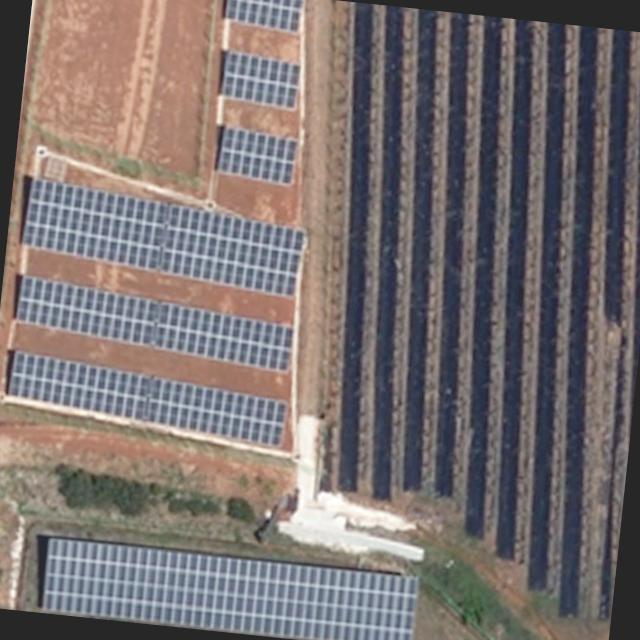solar: (36, 533, 420, 640), (18, 172, 309, 298), (8, 272, 300, 375), (1, 348, 290, 452), (213, 122, 301, 188), (215, 48, 302, 112), (223, 0, 305, 34)
